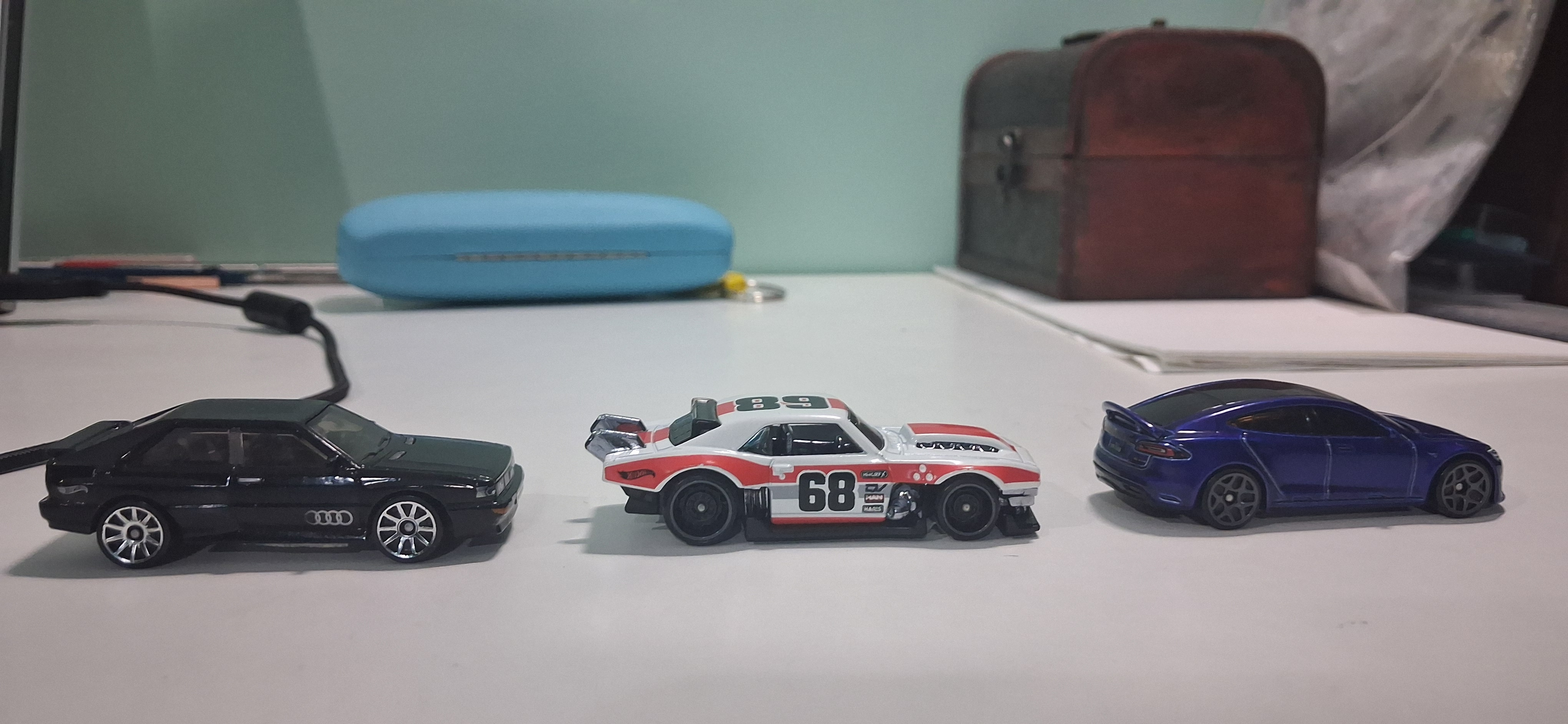Audi_Quattro: (15, 354, 565, 585)
Camaro: (572, 358, 1056, 563)
Tesla_Model_S_Plaid: (1076, 342, 1522, 556)
